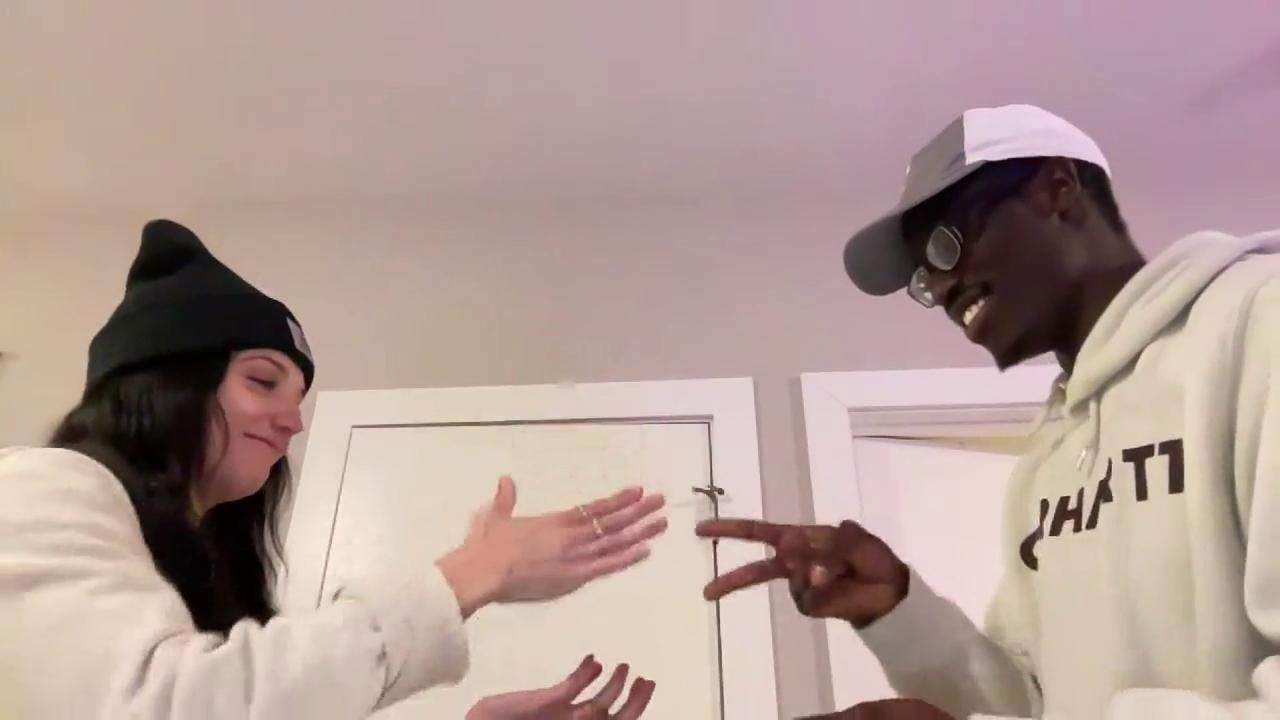Paper: (458, 474, 669, 607)
Scissors: (693, 513, 901, 632)
